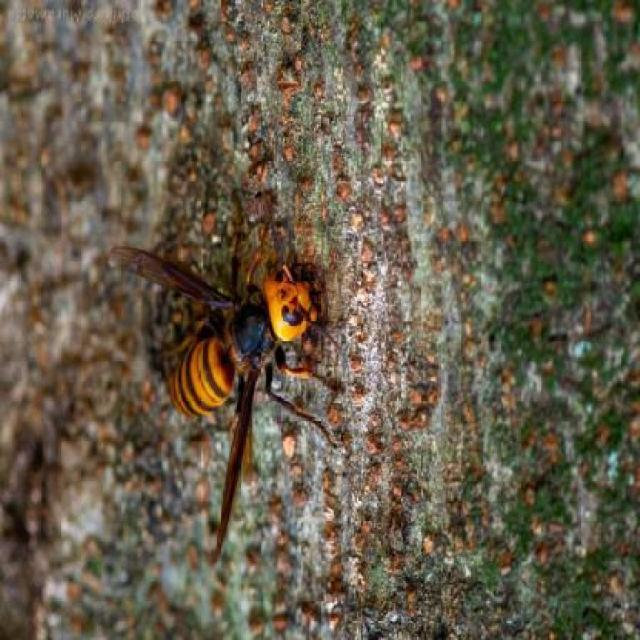Wasp: (95, 205, 348, 561)
